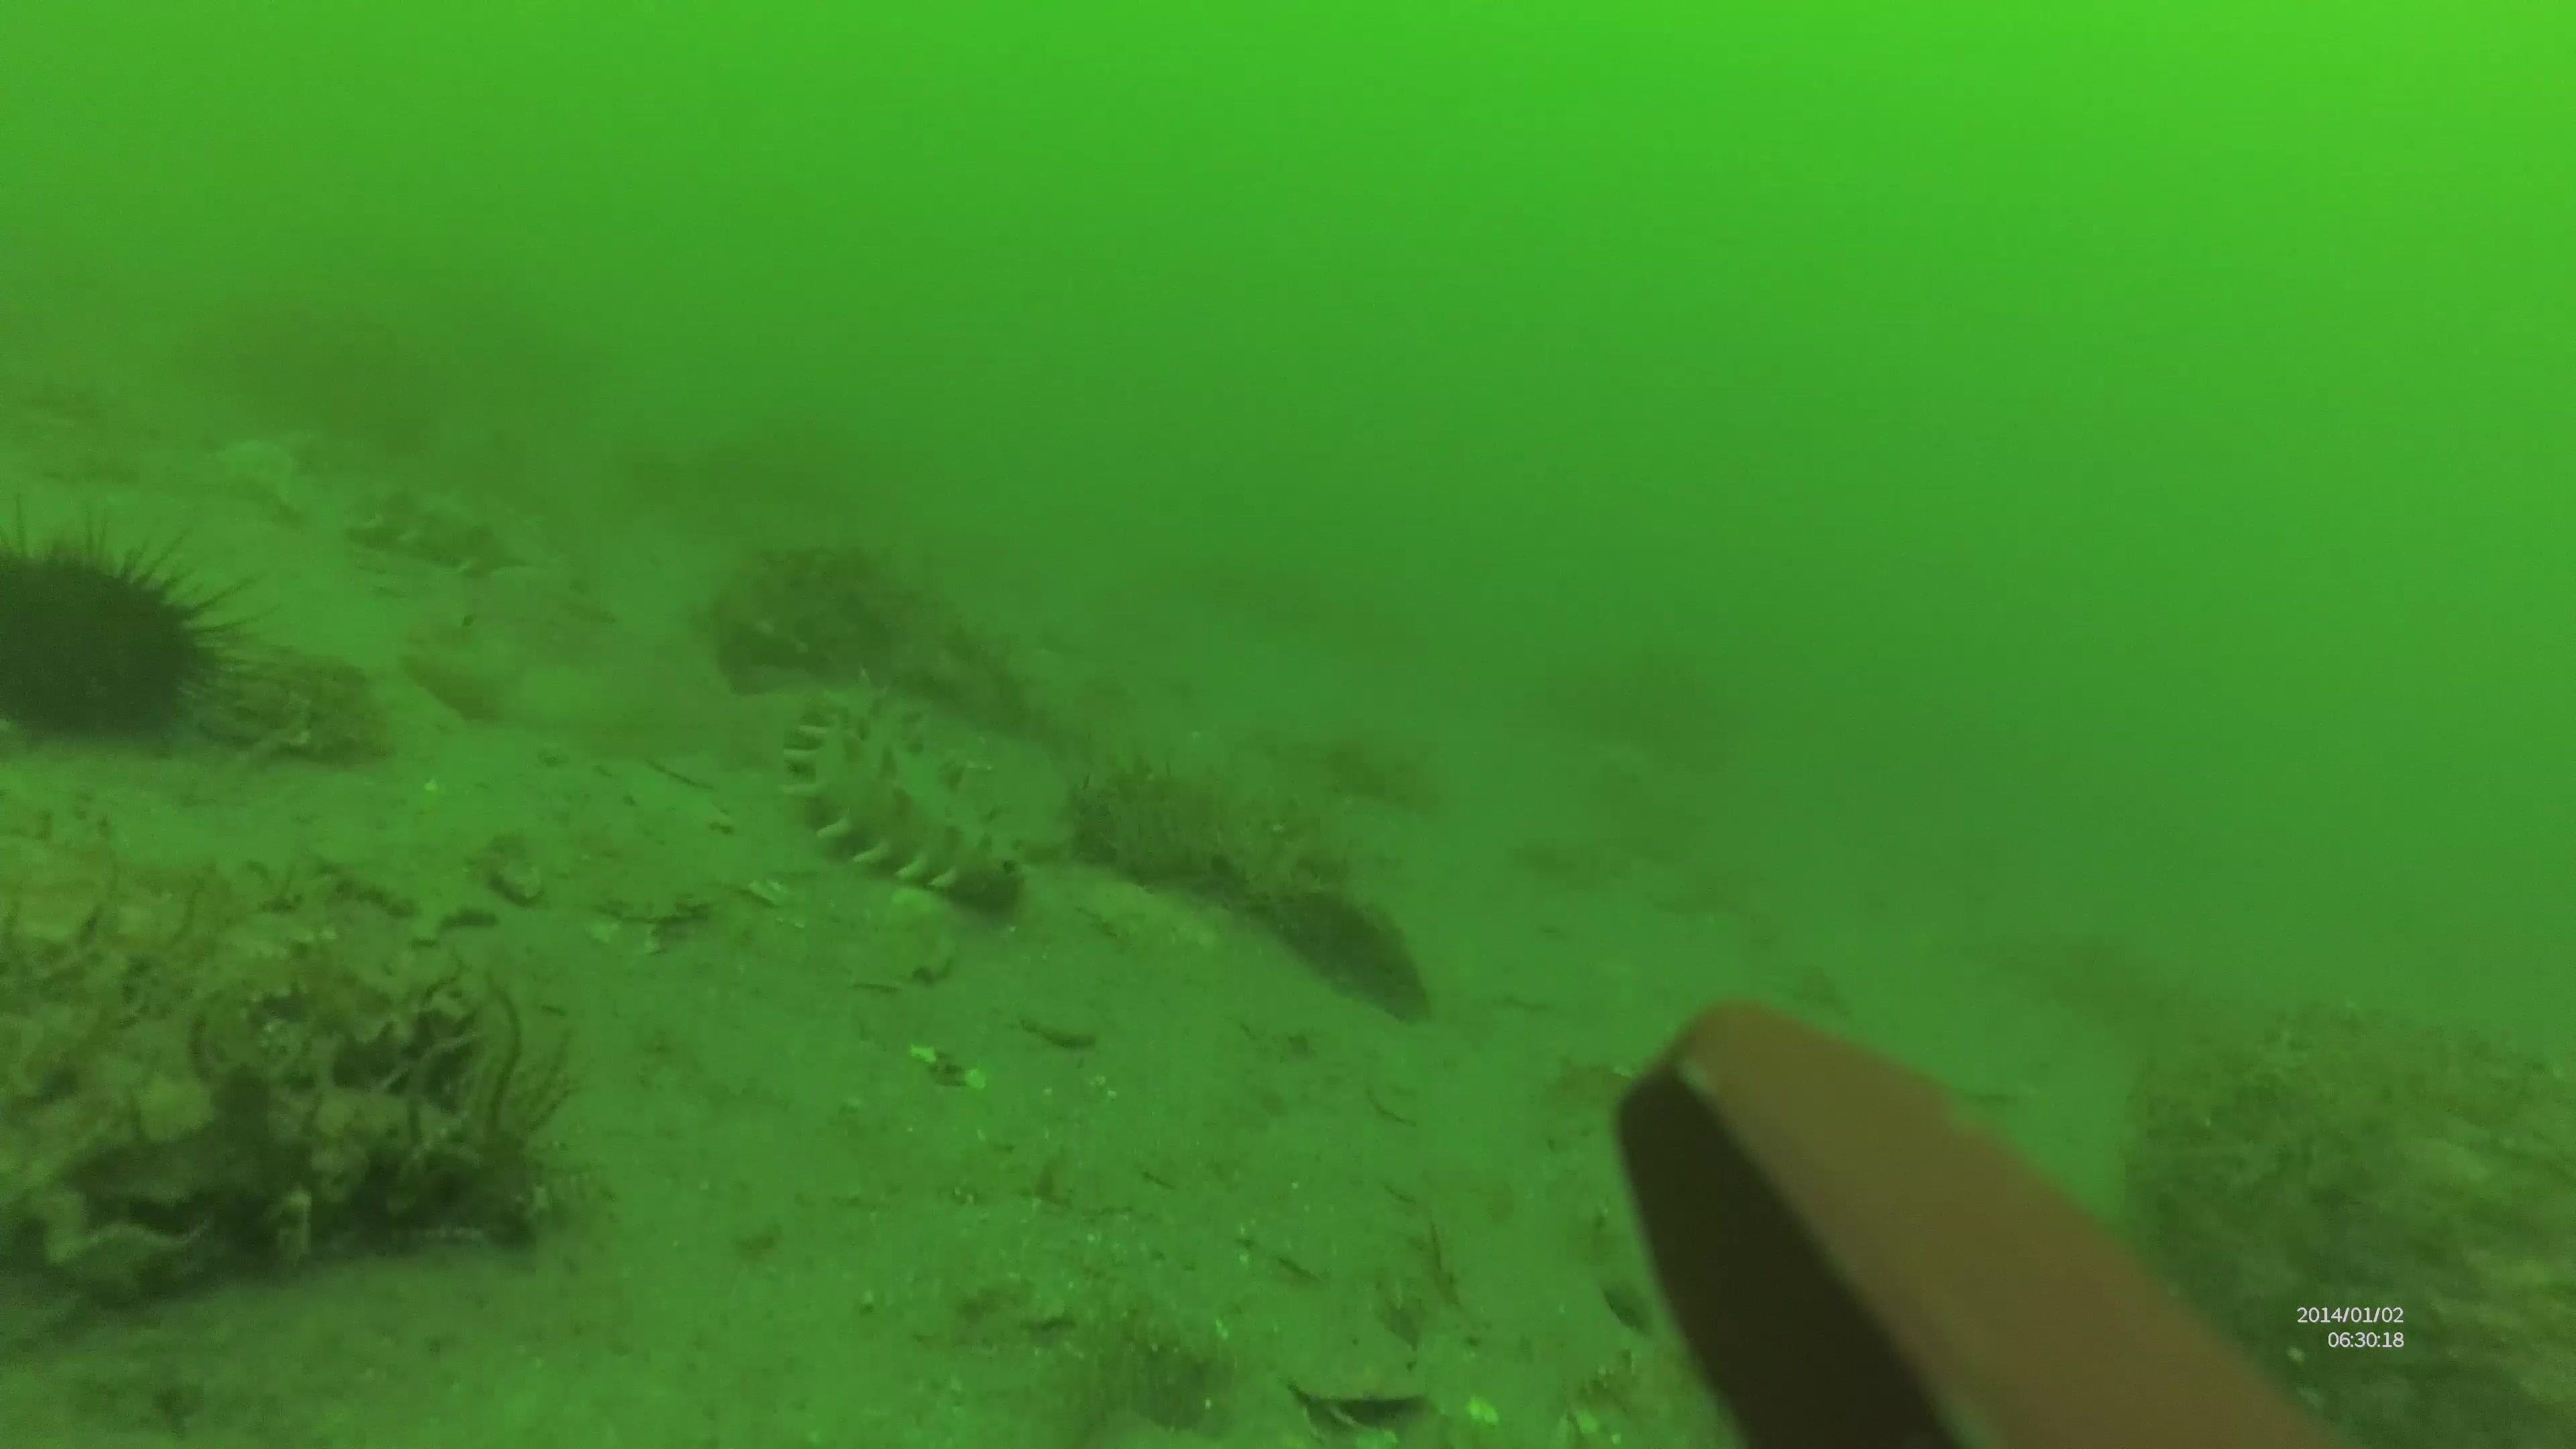echinus: (4, 508, 265, 755)
holothurian: (777, 683, 1024, 909), (352, 472, 536, 579)
